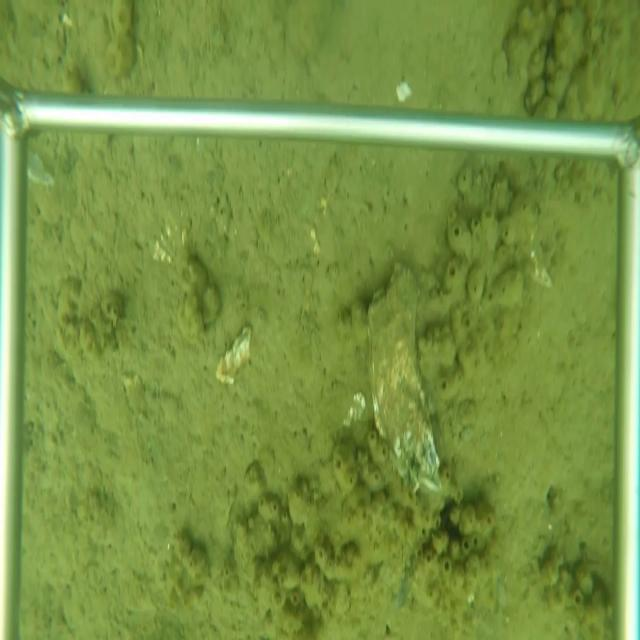Oyster-Closed: (363, 256, 445, 502)
